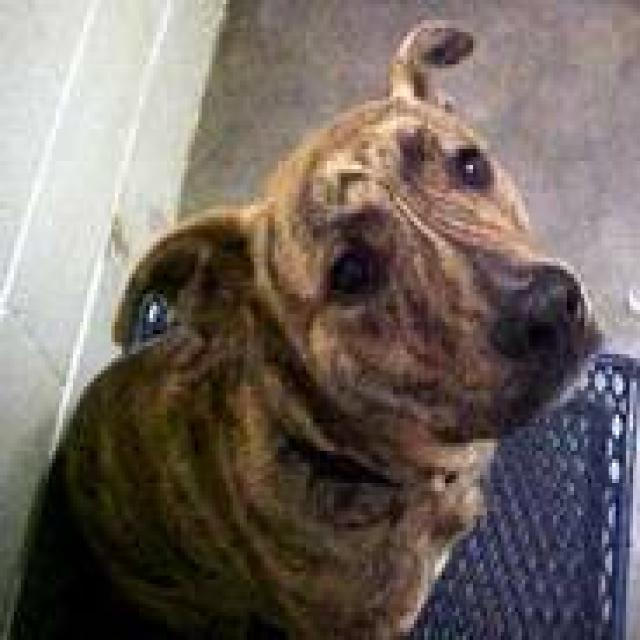dog: (3, 16, 602, 636)
